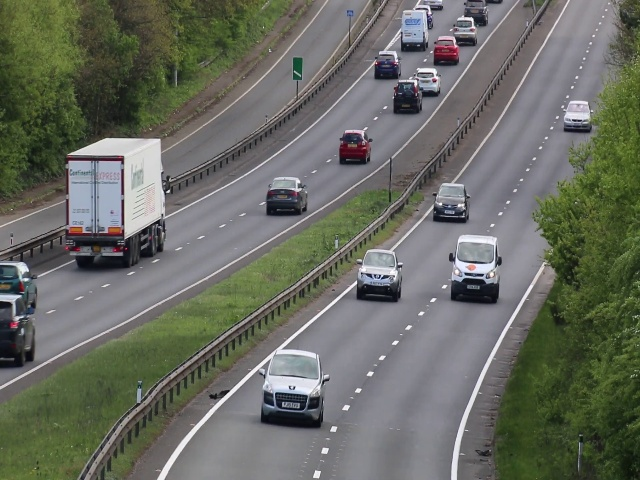car: (63, 135, 170, 272), (259, 348, 324, 427), (452, 235, 501, 303), (355, 252, 403, 302), (1, 295, 33, 364), (265, 178, 307, 214), (432, 181, 469, 221), (336, 130, 372, 165), (401, 10, 429, 51), (391, 79, 423, 112), (1, 263, 34, 290), (373, 48, 399, 79), (565, 99, 589, 131), (434, 37, 459, 65), (418, 66, 439, 97), (456, 19, 478, 43)
